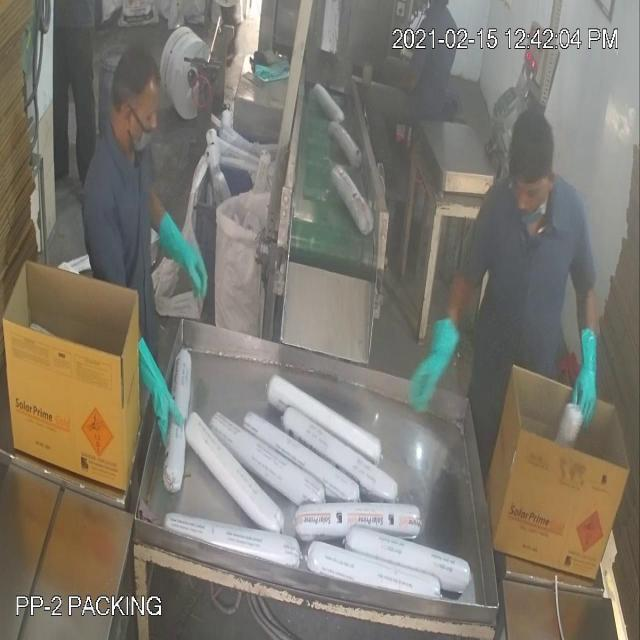Gloves: (38, 114, 586, 388)
